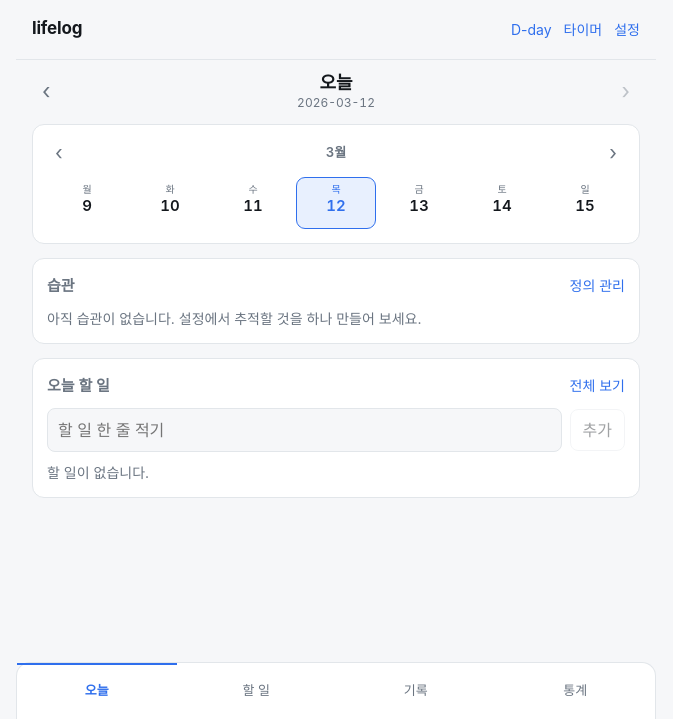
Test: 습관 — 만들고 체크하기 › 설정에서 만든 습관이 오늘 화면에 나타나고 체크하면 스트릭이 선다
Step 1. Click the button "설정" → (627, 29), box [614,16,640,42]
(page scrolled)
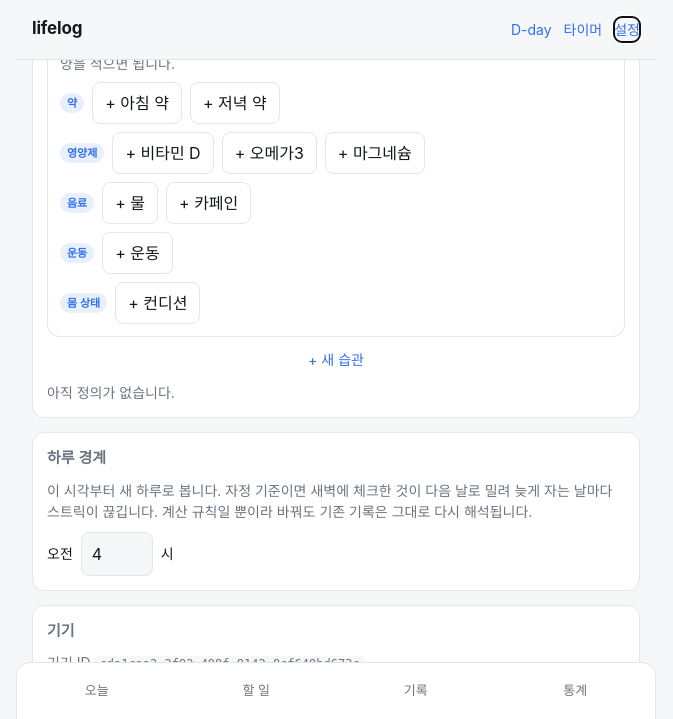
Step 2. Click the button "+ 새 습관" → (336, 360), box [47,347,625,372]
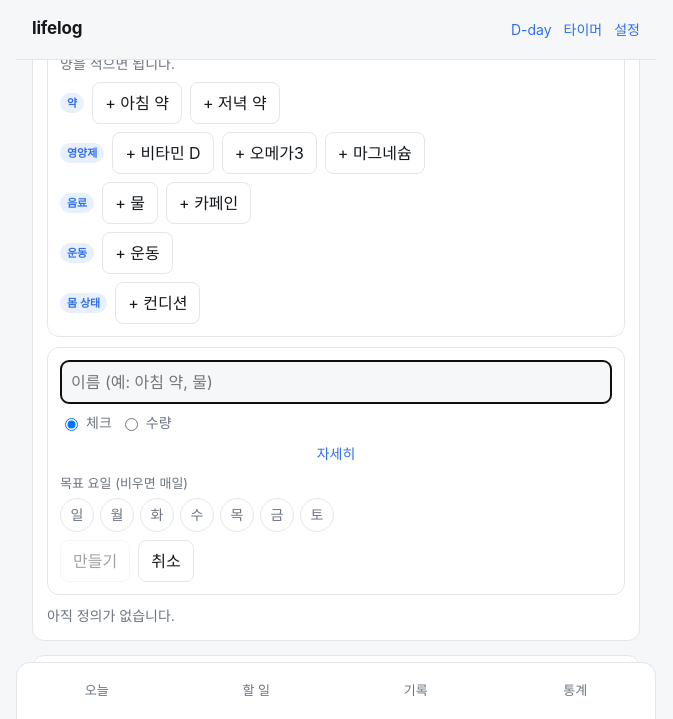
Step 3. Type "아침 약" into the field named "습관 이름" → (336, 382), box [60,360,612,404]
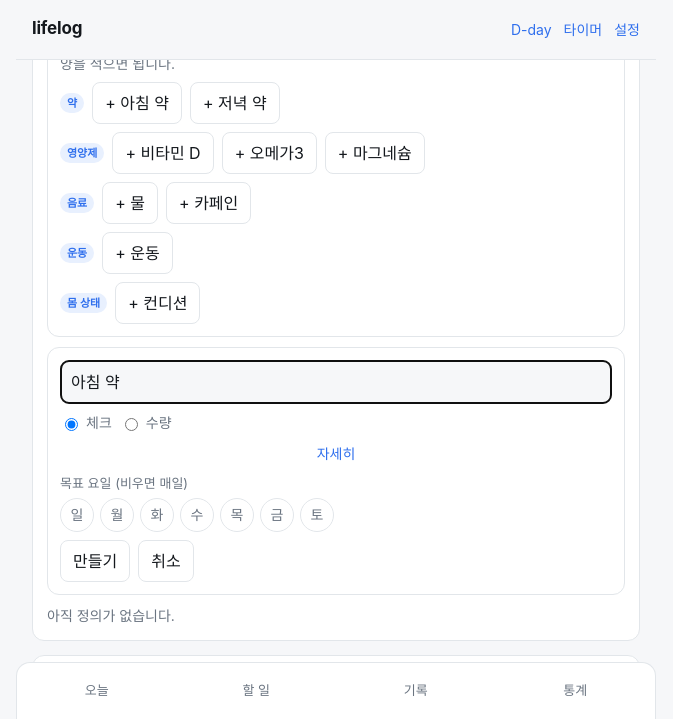
Step 4. Click the button "만들기" → (95, 561), box [60,540,130,582]
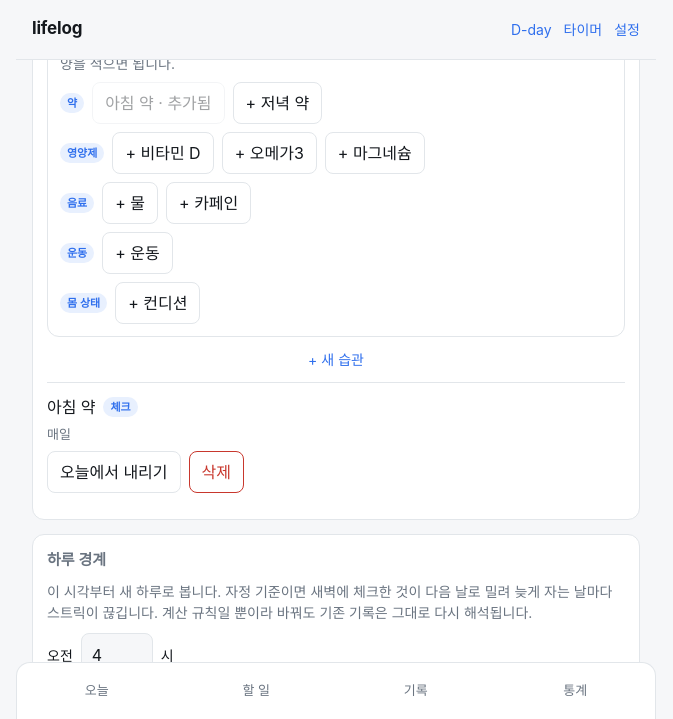
Step 5. Click the button "오늘" → (97, 691), box [17,663,176,718]
(page scrolled)
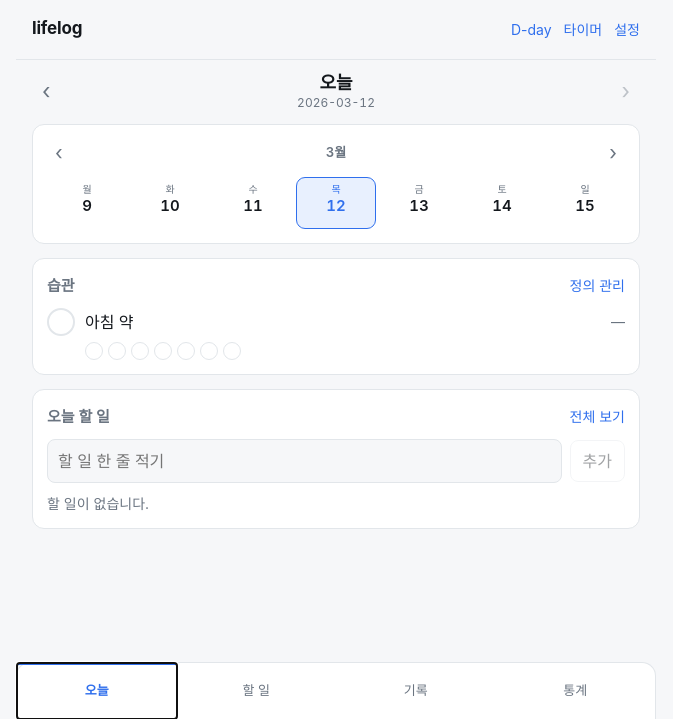
Check: the text "아침 약" is shown, box [85,312,133,332]
Step 6. Click the button named "아침 약 체크" → (61, 322), box [47,308,75,336]
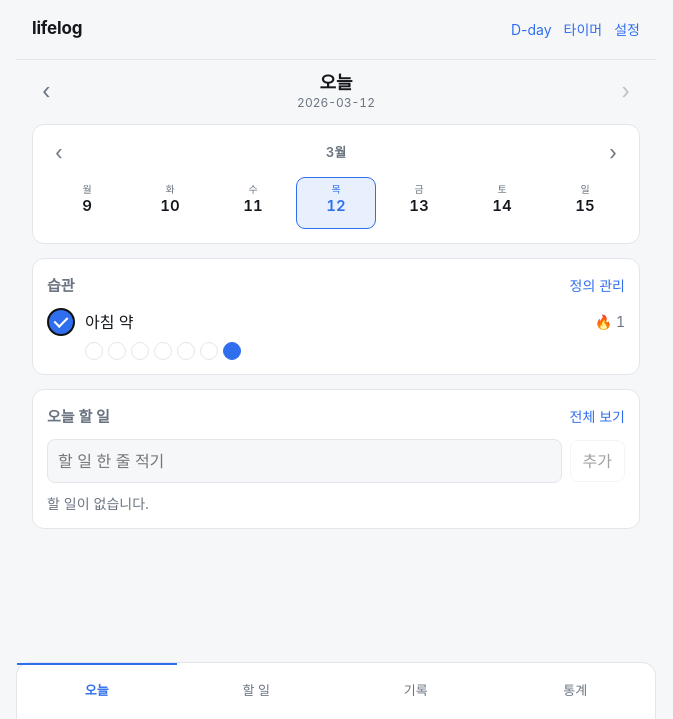
Check: the picture "🔥 1" is shown, box [595,311,625,332]
